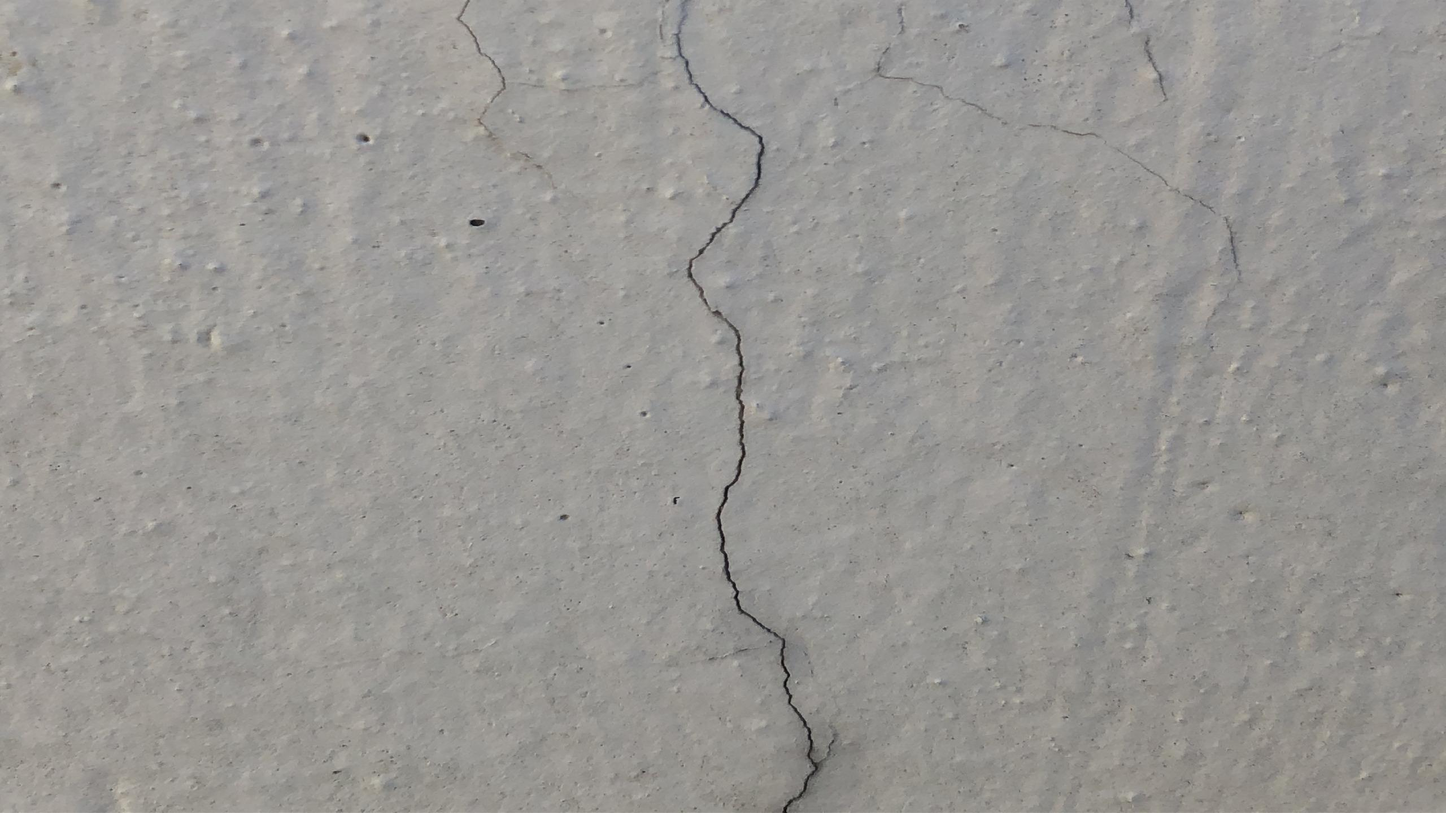crack: (674, 2, 821, 810)
